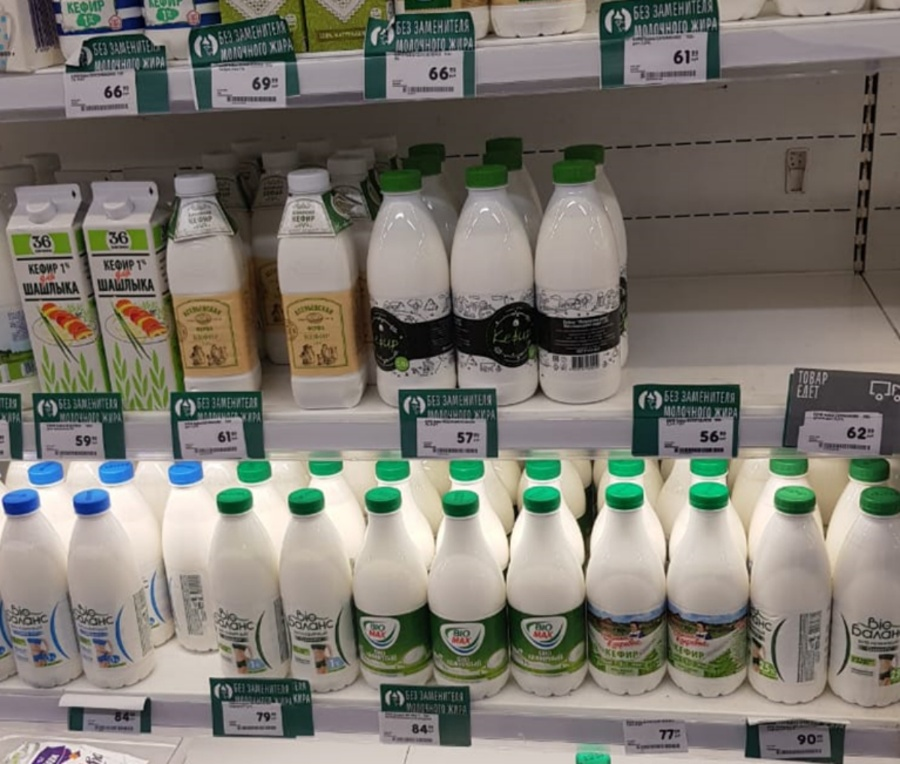milk: (275, 166, 377, 420), (163, 172, 274, 398), (536, 163, 635, 411), (451, 168, 550, 410), (370, 172, 466, 415), (742, 486, 841, 711), (60, 490, 166, 696), (499, 485, 600, 700), (585, 484, 682, 704), (666, 483, 759, 707), (274, 492, 366, 699), (429, 494, 518, 704), (352, 489, 437, 700), (826, 484, 900, 709)
